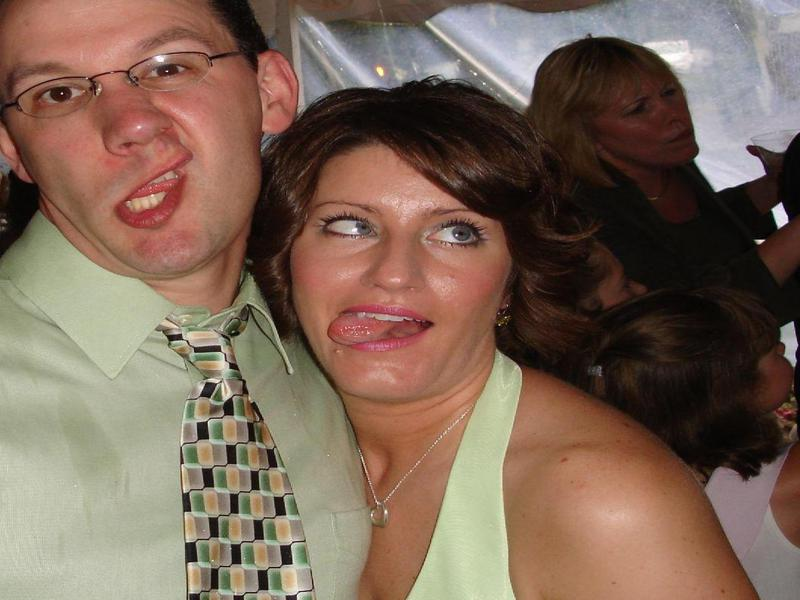person: (270, 80, 759, 600), (1, 2, 370, 600), (606, 277, 800, 596), (527, 29, 747, 274)
